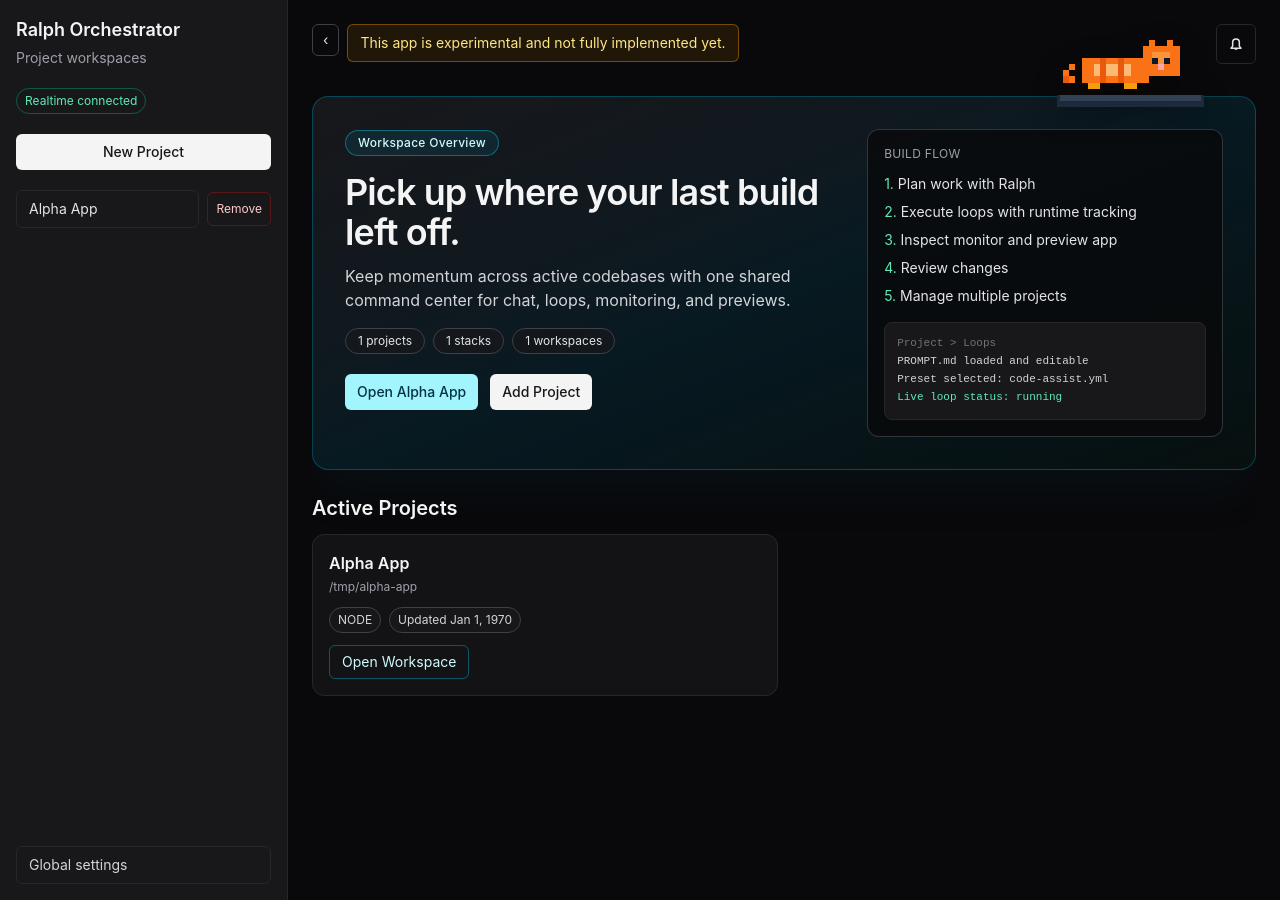
Test: App › navigates back to dashboard when removing the active project
Click the button "Alpha App" at coordinates (108, 209), box x1=16 y1=190 x2=200 y2=228
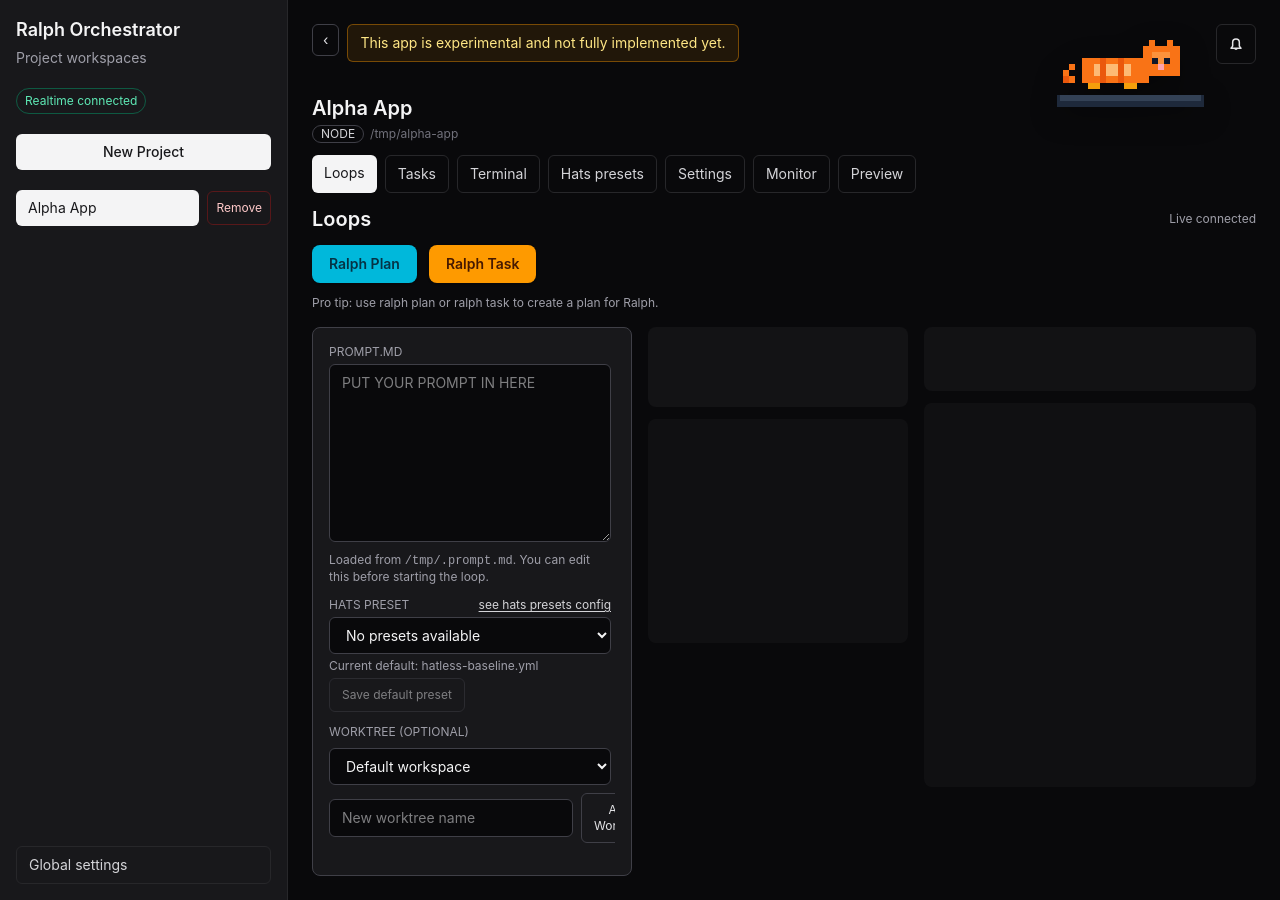
Expected: the heading "Alpha App" is shown, x1=312 y1=96 x2=412 y2=120
Click the button with aria-label "Remove Alpha App" at coordinates (239, 208), box x1=208 y1=191 x2=271 y2=225
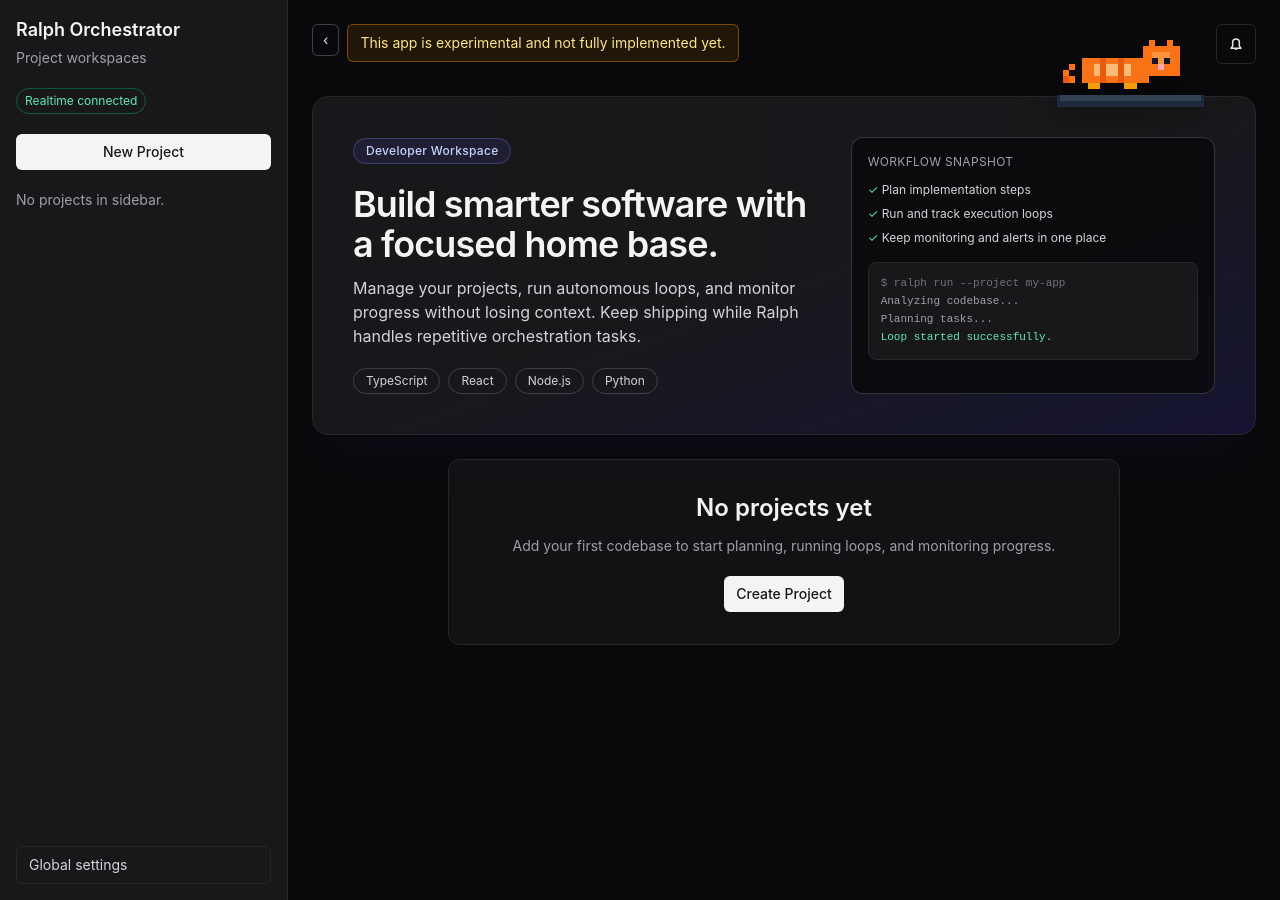
Expected: the heading "No projects yet" is shown, x1=696 y1=493 x2=872 y2=522
